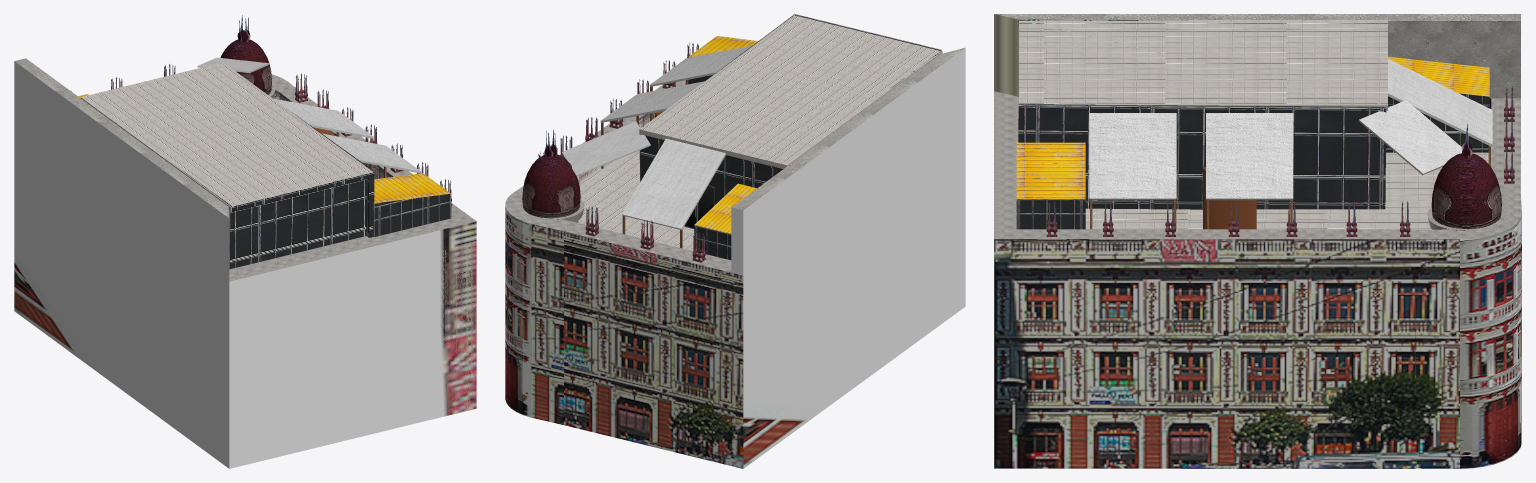
Rendered from edifiogaleria.fbx.
3 renders of one model, left to right at view 1: azimuth 30°, elevation 25°; view 2: azimuth 150°, elevation 25°; view 3: azimuth 270°, elevation 25°, orthographic. The views are drawn at different scales.
Visible parts, largest first — view 1: Cylinder.001, Cube.003, Cube.006, Cube.008, Cube.007, Cube.004, Cube.002, Cube.010, Cube.017; view 2: Cylinder.001, Cube.003, Cube.018, Cube.007, Cube.006, Cube.017, Cube.009, Cube.010, Cube.004, Cube.002, Cube.008; view 3: Cylinder.001, Cube.003, Cube.006, Cube.002, Cube.004, Cube.008, Cube.007, Cube.018, Cube.017, Cube.009, Cube.010, Cylinder.
Boxes of the visible parts, x1,y1,x2,y2 form: Cylinder.001: [14, 58, 476, 468]; Cube.003: [80, 62, 372, 211]; Cube.006: [171, 113, 374, 269]; Cube.008: [373, 173, 451, 236]; Cube.007: [220, 15, 275, 98]; Cube.004: [273, 98, 373, 170]; Cube.002: [321, 133, 421, 177]; Cube.010: [71, 64, 451, 206]; Cube.017: [197, 57, 269, 73]; Cylinder.001: [505, 47, 965, 468]; Cube.003: [639, 15, 942, 168]; Cube.018: [621, 138, 725, 248]; Cube.007: [522, 129, 584, 222]; Cube.006: [639, 14, 941, 228]; Cube.017: [562, 121, 650, 176]; Cube.009: [694, 183, 756, 260]; Cube.010: [538, 42, 705, 262]; Cube.004: [600, 81, 704, 168]; Cube.002: [649, 45, 751, 121]; Cube.008: [688, 36, 758, 84]; Cylinder.001: [994, 14, 1521, 468]; Cube.003: [1019, 20, 1387, 110]; Cube.006: [1018, 19, 1386, 209]; Cube.002: [1089, 113, 1176, 229]; Cube.004: [1206, 113, 1293, 229]; Cube.008: [1016, 141, 1085, 229]; Cube.007: [1427, 124, 1503, 230]; Cube.018: [1388, 59, 1492, 166]; Cube.017: [1358, 100, 1462, 175]; Cube.009: [1386, 56, 1489, 152]; Cube.010: [1046, 86, 1514, 236]; Cylinder: [1203, 167, 1256, 229].
Bounding box in the file's own units: 6214 × 6223 × 9333.
Materials: 42 (41 with a texture image).
